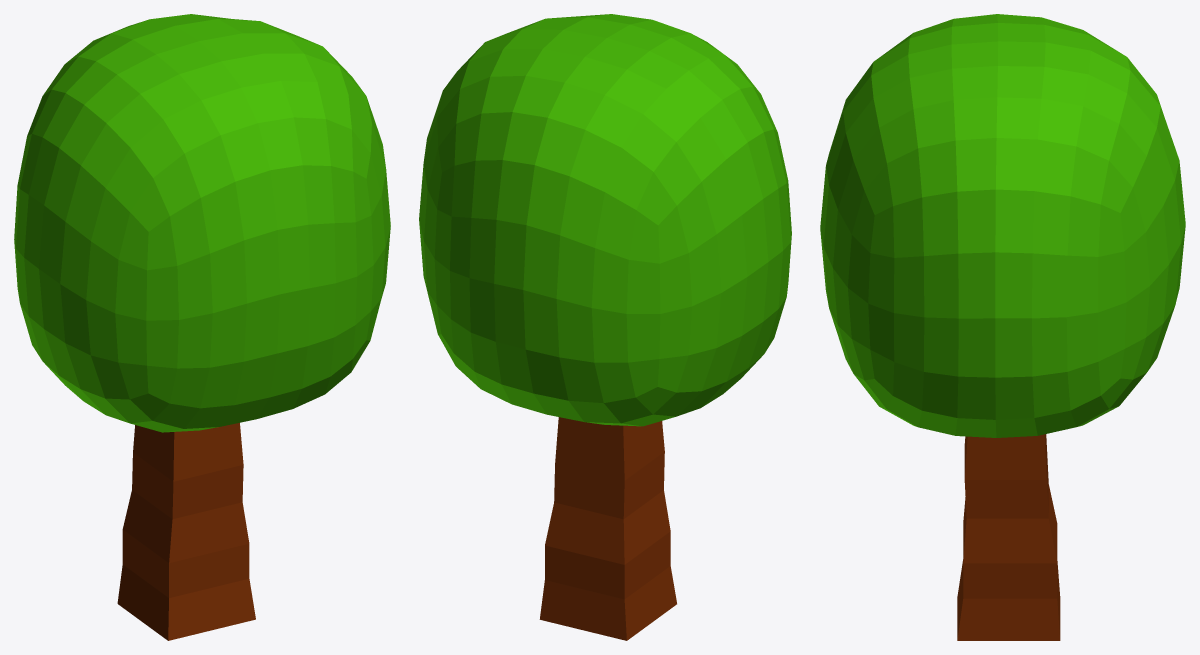
Rendered from treeeee.fbx.
3 renders of one model, left to right at view 1: azimuth 30°, elevation 25°; view 2: azimuth 150°, elevation 25°; view 3: azimuth 270°, elevation 25°, orthographic. The views are drawn at different scales.
Visible parts, largest first — view 1: Tree; view 2: Tree; view 3: Tree.
Part boxes in pixels (x1=…): Tree: x1=14, y1=14, x2=390, y2=640; Tree: x1=419, y1=14, x2=791, y2=640; Tree: x1=820, y1=14, x2=1185, y2=640.
Bounding box in the file's own units: 541 × 880 × 502.
